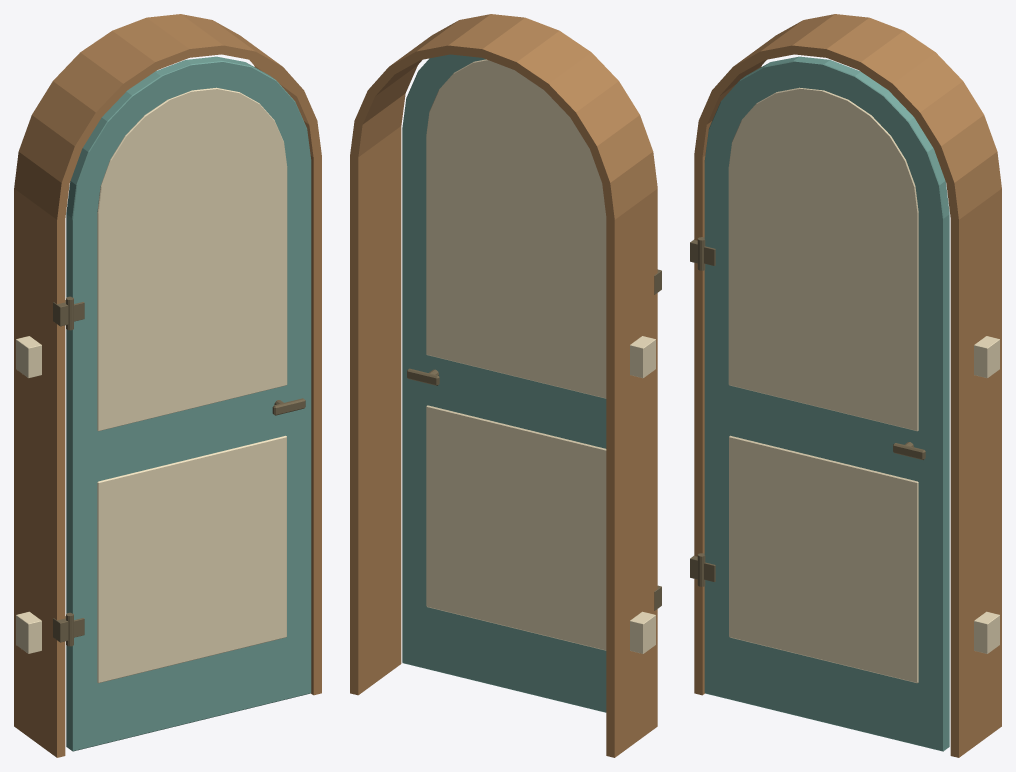
The picture shows the model from 3 angles, left to right: view 1: azimuth 30°, elevation 25°; view 2: azimuth 150°, elevation 25°; view 3: azimuth 330°, elevation 25°; orthographic projection.
Parts seen in each view (by area): view 1: Leaf_arched_solid, Leaf_upper_inset_front, Frame_arched_liner, Leaf_lower_inset_front, Frame_mount_shim_L_2, Frame_mount_shim_L_1; view 2: Frame_arched_liner, Leaf_upper_inset_rear, Leaf_lower_inset_rear, Leaf_arched_solid, Frame_mount_shim_L_2, Frame_mount_shim_L_1; view 3: Leaf_arched_solid, Leaf_upper_inset_front, Frame_arched_liner, Leaf_lower_inset_front, Frame_mount_shim_R_1, Frame_mount_shim_R_2.
Part boxes in pixels (box(x1,y1,x2,y2)): Leaf_arched_solid: box(66, 56, 311, 751); Leaf_upper_inset_front: box(97, 87, 287, 431); Frame_arched_liner: box(14, 14, 321, 757); Leaf_lower_inset_front: box(97, 435, 286, 683); Frame_mount_shim_L_2: box(16, 336, 41, 378); Frame_mount_shim_L_1: box(16, 611, 41, 653); Frame_arched_liner: box(350, 14, 657, 757); Leaf_upper_inset_rear: box(426, 59, 606, 398); Leaf_lower_inset_rear: box(426, 405, 606, 650); Leaf_arched_solid: box(402, 54, 606, 712); Frame_mount_shim_L_2: box(630, 336, 655, 378); Frame_mount_shim_L_1: box(630, 611, 655, 653); Leaf_arched_solid: box(704, 56, 949, 751); Leaf_upper_inset_front: box(728, 87, 918, 431); Frame_arched_liner: box(694, 14, 1001, 757); Leaf_lower_inset_front: box(729, 435, 918, 683); Frame_mount_shim_R_1: box(974, 611, 999, 653); Frame_mount_shim_R_2: box(974, 336, 999, 378).
Size of the model in its own units: 0.908 by 2.01 by 0.285.
